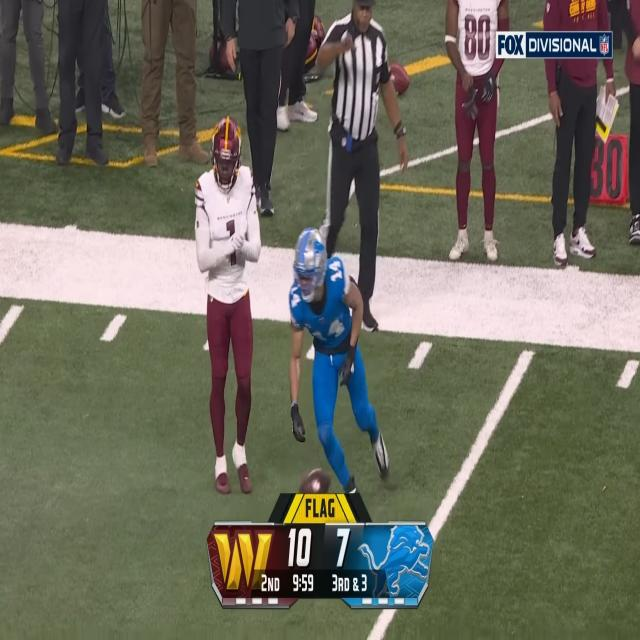Ball: (299, 467, 334, 496)
